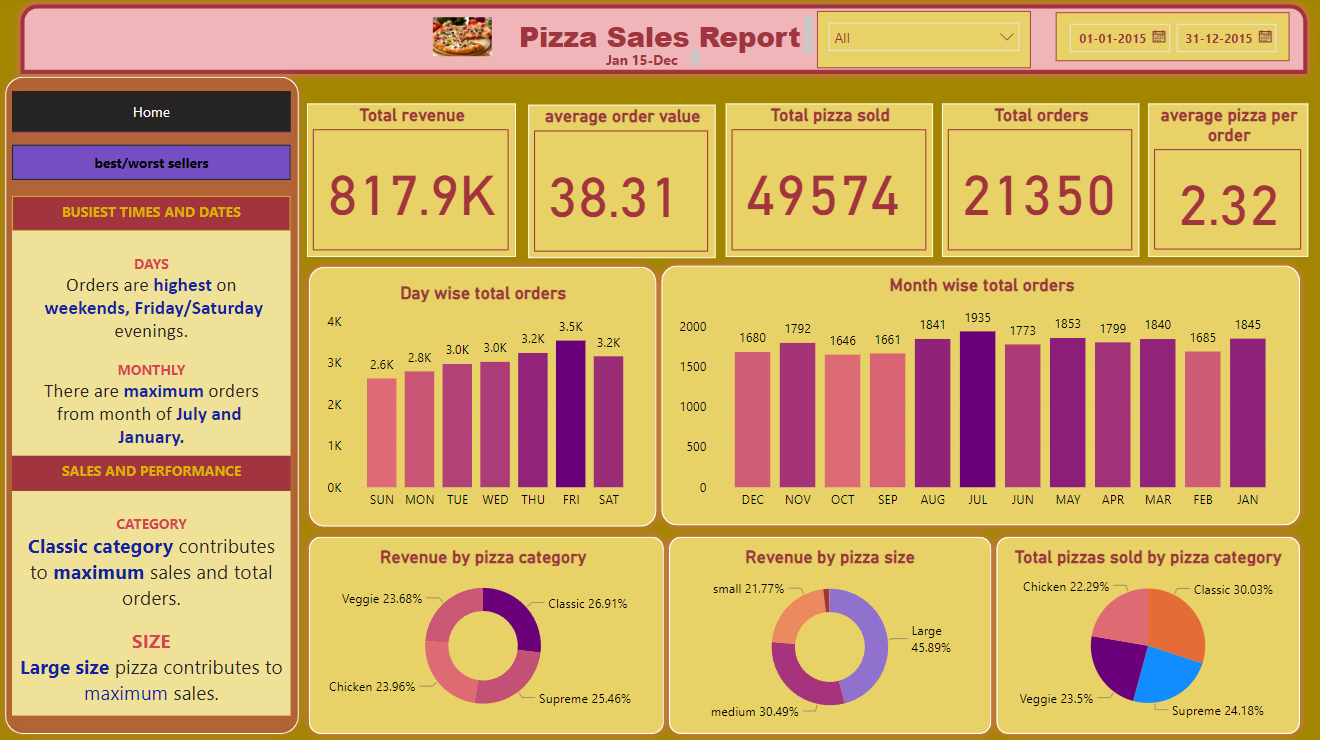

This screenshot's page, from the dashboard's own definition file:
{"tool":"powerbi","page":{"name":"Home","canvas":[1280,720],"ordinal":0},"visuals":[{"type":"cardVisual","title":"average order value","fields":{"Data":["pizza_sales.avg_order_value"]},"box":[512.7,105,181,148.4],"z":0},{"type":"cardVisual","title":"Total pizza sold","fields":{"Data":["Sum(pizza_sales.quantity)"]},"box":[703.4,103.8,200.3,148.4],"z":1000},{"type":"cardVisual","title":"Total orders","fields":{"Data":["pizza_sales.total_orders"]},"box":[912.1,103.8,190.6,148.4],"z":2000},{"type":"cardVisual","title":"average pizza per order","fields":{"Data":["pizza_sales.avg_pizza_per_order"]},"box":[1111.1,103.8,154.4,148.4],"z":3000},{"type":"cardVisual","title":"Total revenue","fields":{"Data":["Sum(pizza_sales.total_revenue)"]},"box":[299.2,103.8,201.5,148.4],"z":4000},{"type":"shape","box":[14.5,0,1258.3,83.2],"z":5000},{"type":"textbox","box":[494.6,14.5,298,47.1],"z":6000},{"type":"image","box":[355.9,15.7,185.8,47.1],"z":8000},{"type":"shape","box":[293.2,253.4,351.1,266.6],"z":9000},{"type":"columnChart","title":"Day wise total orders","fields":{"Category":["pizza_sales.day_order"],"Y":["pizza_sales.total_orders"]},"box":[313.7,276.3,311.3,228],"z":10000},{"type":"shape","box":[633.4,252.1,632.2,266.6],"z":11000},{"type":"columnChart","title":"Month wise total orders","fields":{"Y":["pizza_sales.total_orders"],"Category":["pizza_sales.monht_order"]},"box":[653.9,269,593.6,235.3],"z":12000},{"type":"shape","box":[293.2,513.9,358.3,206.3],"z":13000},{"type":"donutChart","title":"Revenue by pizza category","fields":{"Category":["pizza_sales.pizza_category"],"Y":["Sum(pizza_sales.total_revenue)"]},"box":[313.7,530.8,311.3,173.7],"z":14000},{"type":"shape","box":[0,70,299.2,650.3],"z":15000},{"type":"shape","box":[640.6,513.9,326.9,206.3],"z":16000},{"type":"shape","box":[956.7,513.9,308.8,206.3],"z":17000},{"type":"donutChart","title":"Revenue by pizza size","fields":{"Y":["Sum(pizza_sales.total_revenue)"],"Category":["pizza_sales.pizza_size"]},"box":[662.3,530.8,283.5,176.1],"z":18000},{"type":"pieChart","title":"Total pizzas sold by pizza category","fields":{"Category":["pizza_sales.pizza_category"],"Y":["Sum(pizza_sales.quantity)"]},"box":[974.8,530.8,272.7,173.7],"z":19000},{"type":"textbox","box":[14.5,193,269,33.8],"z":20000},{"type":"textbox","box":[14.5,226.8,269,217.2],"z":21000},{"type":"textbox","box":[14.5,444,269,33.8],"z":22000},{"type":"textbox","box":[14.5,477.8,269,217.2],"z":23000},{"type":"slicer","title":"Choose pizza category","fields":{"Values":["pizza_sales.pizza_category"]},"box":[791.4,14.5,206.3,55.5],"z":24000},{"type":"slicer","title":"Choose pizza category","fields":{"Values":["pizza_sales.order_date"]},"box":[1021.9,15.7,225.6,47.1],"z":25000},{"type":"pageNavigator","box":[14.5,91.7,269,39.8],"z":26000},{"type":"pageNavigator","box":[14.5,143.6,269,35],"z":27000},{"type":"textbox","box":[582.7,47.1,100.1,31.4],"z":27001}]}

Visuals, with their boxes in screenshot pixels (x1, y1, x2, y2), scaled from the page's 1280x720 canvas onto the 1320x740 screenshot:
"average order value" cardVisual: (529,108,715,260)
"Total pizza sold" cardVisual: (725,107,932,259)
"Total orders" cardVisual: (941,107,1137,259)
"average pizza per order" cardVisual: (1146,107,1305,259)
"Total revenue" cardVisual: (309,107,516,259)
shape: (15,0,1313,86)
textbox: (510,15,817,63)
image: (367,16,559,65)
shape: (302,260,664,534)
"Day wise total orders" columnChart: (324,284,645,518)
shape: (653,259,1305,533)
"Month wise total orders" columnChart: (674,276,1286,518)
shape: (302,528,672,739)
"Revenue by pizza category" donutChart: (324,546,645,724)
shape: (0,72,309,739)
shape: (661,528,998,739)
shape: (987,528,1305,739)
"Revenue by pizza size" donutChart: (683,546,975,727)
"Total pizzas sold by pizza category" pieChart: (1005,546,1286,724)
textbox: (15,198,292,233)
textbox: (15,233,292,456)
textbox: (15,456,292,491)
textbox: (15,491,292,714)
"Choose pizza category" slicer: (816,15,1029,72)
"Choose pizza category" slicer: (1054,16,1286,65)
pageNavigator: (15,94,292,135)
pageNavigator: (15,148,292,184)
textbox: (601,48,704,81)
